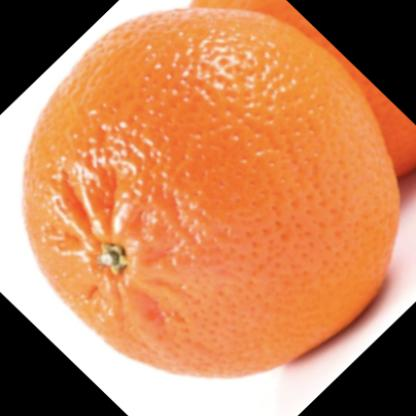fresh: (22, 9, 403, 378)
